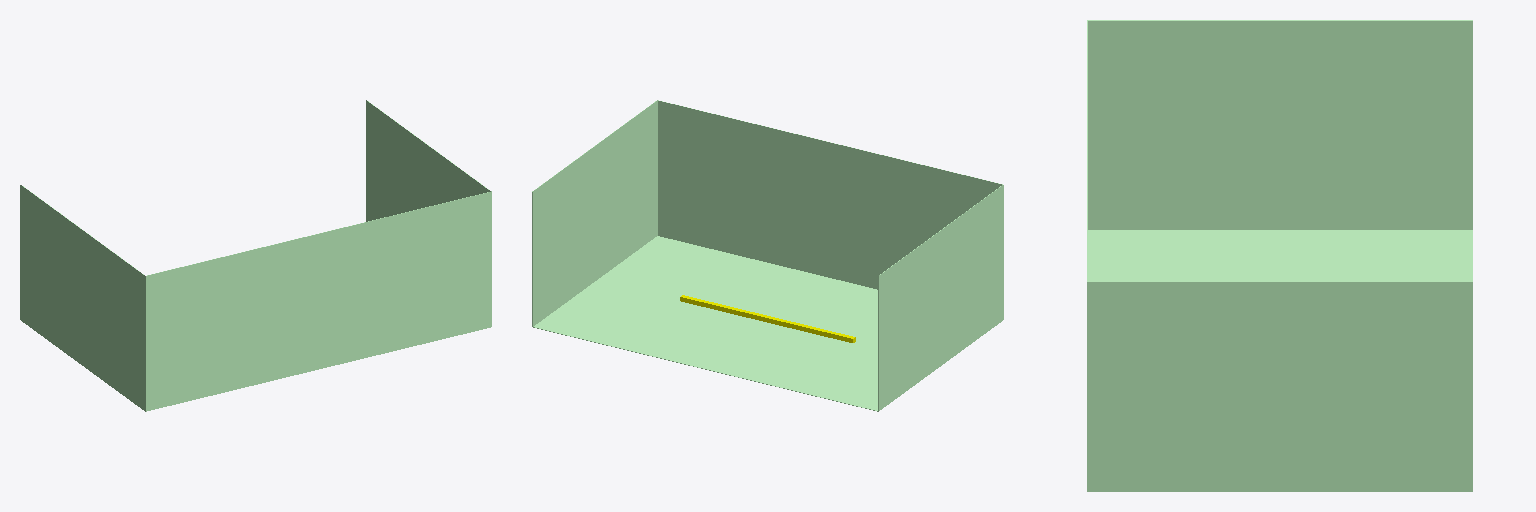
URDF robot description (irb2400_workspace):
<?xml version="1.0" ?>
<!-- =================================================================================== -->
<!-- |    This document was autogenerated by xacro from irb2400_with_linear_track_workspace.xacro | -->
<!-- |    EDITING THIS FILE BY HAND IS NOT RECOMMENDED                                 | -->
<!-- =================================================================================== -->
<robot name="irb2400_workspace" xmlns:xacro="http://ros.org/wiki/xacro">
  <!-- Conversion were obtained from http://www.e-paint.co.uk/Lab_values.asp
       unless otherwise stated. -->
  <link name="world_frame"/>
  <!-- link list -->
  <link name="base_link">
    <visual>
      <origin rpy="0 0 0" xyz="0 0 0"/>
      <geometry>
        <mesh filename="package://abb_irb2400_support/meshes/irb2400/visual/base_link.dae"/>
      </geometry>
      <material name="">
        <color rgba="0.7372549 0.3490196 0.1607843 1"/>
      </material>
    </visual>
    <collision>
      <geometry>
        <mesh filename="package://abb_irb2400_support/meshes/irb2400/collision/base_link.stl"/>
      </geometry>
      <material name="">
        <color rgba="1 1 0 1"/>
      </material>
    </collision>
  </link>
  <link name="link_1">
    <visual>
      <origin rpy="0 0 0" xyz="0 0 0"/>
      <geometry>
        <mesh filename="package://abb_irb2400_support/meshes/irb2400/visual/link_1.dae"/>
      </geometry>
      <material name="">
        <color rgba="0.7372549 0.3490196 0.1607843 1"/>
      </material>
    </visual>
    <collision>
      <origin rpy="0 0 0" xyz="0 0 0"/>
      <geometry>
        <mesh filename="package://abb_irb2400_support/meshes/irb2400/collision/link_1.stl"/>
      </geometry>
      <material name="">
        <color rgba="1 1 0 1"/>
      </material>
    </collision>
  </link>
  <link name="link_2">
    <visual>
      <origin rpy="0 0 0" xyz="0 0 0"/>
      <geometry>
        <mesh filename="package://abb_irb2400_support/meshes/irb2400/visual/link_2.dae"/>
      </geometry>
      <material name="">
        <color rgba="0.7372549 0.3490196 0.1607843 1"/>
      </material>
    </visual>
    <collision>
      <origin rpy="0 0 0" xyz="0 0 0"/>
      <geometry>
        <mesh filename="package://abb_irb2400_support/meshes/irb2400/collision/link_2_whole.stl"/>
      </geometry>
      <material name="">
        <color rgba="1 1 0 1"/>
      </material>
    </collision>
  </link>
  <link name="link_3">
    <visual>
      <origin rpy="0 0 0" xyz="0 0 0"/>
      <geometry>
        <mesh filename="package://abb_irb2400_support/meshes/irb2400/visual/link_3.dae"/>
      </geometry>
      <material name="">
        <color rgba="0.7372549 0.3490196 0.1607843 1"/>
      </material>
    </visual>
    <collision>
      <origin rpy="0 0 0" xyz="0 0 0"/>
      <geometry>
        <mesh filename="package://abb_irb2400_support/meshes/irb2400/collision/link_3.stl"/>
      </geometry>
      <material name="">
        <color rgba="1 1 0 1"/>
      </material>
    </collision>
  </link>
  <link name="link_4">
    <visual>
      <origin rpy="0 0 0" xyz="0 0 0"/>
      <geometry>
        <mesh filename="package://abb_irb2400_support/meshes/irb2400/visual/link_4.dae"/>
      </geometry>
      <material name="">
        <color rgba="0.7372549 0.3490196 0.1607843 1"/>
      </material>
    </visual>
    <collision>
      <origin rpy="0 0 0" xyz="0 0 0"/>
      <geometry>
        <mesh filename="package://abb_irb2400_support/meshes/irb2400/collision/link_4.stl"/>
      </geometry>
      <material name="">
        <color rgba="1 1 0 1"/>
      </material>
    </collision>
  </link>
  <link name="link_5">
    <visual>
      <origin rpy="0 0 0" xyz="0 0 0"/>
      <geometry>
        <mesh filename="package://abb_irb2400_support/meshes/irb2400/visual/link_5.dae"/>
      </geometry>
      <material name="">
        <color rgba="0.7372549 0.3490196 0.1607843 1"/>
      </material>
    </visual>
    <collision>
      <origin rpy="0 0 0" xyz="0 0 0"/>
      <geometry>
        <mesh filename="package://abb_irb2400_support/meshes/irb2400/collision/link_5.stl"/>
      </geometry>
      <material name="">
        <color rgba="1 1 0 1"/>
      </material>
    </collision>
  </link>
  <link name="link_6">
    <visual>
      <origin rpy="0 0 0" xyz="0 0 0"/>
      <geometry>
        <mesh filename="package://abb_irb2400_support/meshes/irb2400/visual/link_6.dae"/>
      </geometry>
      <material name="">
        <color rgba="0.1882353 0.1960784 0.2039216 1"/>
      </material>
    </visual>
    <collision>
      <origin rpy="0 0 0" xyz="0 0 0"/>
      <geometry>
        <mesh filename="package://abb_irb2400_support/meshes/irb2400/collision/link_6.stl"/>
      </geometry>
      <material name="">
        <color rgba="1 1 0 1"/>
      </material>
    </collision>
  </link>
  <link name="tool0"/>
  <!-- end of link list -->
  <!-- joint list -->
  <joint name="joint_1" type="revolute">
    <origin rpy="0 0 0" xyz="0 0 0"/>
    <parent link="base_link"/>
    <child link="link_1"/>
    <axis xyz="0 0 1"/>
    <limit effort="0" lower="-3.1416" upper="3.1416" velocity="2.618"/>
  </joint>
  <joint name="joint_2" type="revolute">
    <origin rpy="0 0 0" xyz="0.1 0 0.615"/>
    <parent link="link_1"/>
    <child link="link_2"/>
    <axis xyz="0 1 0"/>
    <limit effort="0" lower="-1.7453" upper="1.9199" velocity="2.618"/>
  </joint>
  <joint name="joint_3" type="revolute">
    <origin rpy="0 0 0" xyz="0 0 0.705"/>
    <parent link="link_2"/>
    <child link="link_3"/>
    <axis xyz="0 1 0"/>
    <limit effort="0" lower="-1.0472" upper="1.1345" velocity="2.618"/>
  </joint>
  <joint name="joint_4" type="revolute">
    <origin rpy="0 0 0" xyz="0.258 0 0.135"/>
    <parent link="link_3"/>
    <child link="link_4"/>
    <axis xyz="1 0 0"/>
    <limit effort="0" lower="-3.49" upper="3.49" velocity="6.2832"/>
  </joint>
  <joint name="joint_5" type="revolute">
    <origin rpy="0 0 0" xyz="0.497 0 0"/>
    <parent link="link_4"/>
    <child link="link_5"/>
    <axis xyz="0 1 0"/>
    <limit effort="0" lower="-2.0944" upper="2.0944" velocity="6.2832"/>
  </joint>
  <joint name="joint_6" type="revolute">
    <origin rpy="0 0 0" xyz="0.085 0 0"/>
    <parent link="link_5"/>
    <child link="link_6"/>
    <axis xyz="1 0 0"/>
    <limit effort="0" lower="-6.9813" upper="6.9813" velocity="7.854"/>
  </joint>
  <joint name="joint_6-tool0" type="fixed">
    <parent link="link_6"/>
    <child link="tool0"/>
    <origin rpy="0 1.57079632679 0" xyz="0 0 0"/>
  </joint>
  <!-- end of joint list -->
  <!-- ROS base_link to ABB World Coordinates transform -->
  <link name="base"/>
  <joint name="base_link-base" type="fixed">
    <origin rpy="0 0 0" xyz="0 0 0"/>
    <parent link="base_link"/>
    <child link="base"/>
  </joint>
  <!-- eef_frame is Base Link -->
  <link name="eef_frame"/>
  <link name="hotend_tool">
    <visual>
      <geometry>
        <mesh filename="package://asw_end_effector/meshes/visual/asw_hotend_end_effector.stl" scale=".001 .001 .001"/>
      </geometry>
      <material name="grey">
        <color rgba="0.5 0.5 0.5 1.0"/>
      </material>
    </visual>
    <collision>
      <geometry>
        <mesh filename="package://asw_end_effector/meshes/collision/asw_hotend_end_effector_shrinked_tip-4mm.stl" scale=".001 .001 .001"/>
      </geometry>
      <material name="red">
        <color rgba="1 0 0 1"/>
      </material>
    </collision>
  </link>
  <joint name="eef_frame_to_hotend_tool" type="fixed">
    <parent link="eef_frame"/>
    <child link="hotend_tool"/>
    <origin rpy="0 0 0" xyz="0.000088 0.000769 -0.002121"/>
  </joint>
  <link name="tmp_tcp_frame"/>
  <!--The actual 'useful' work frame-->
  <link name="tcp_frame"/>
  <!--The actual 'useful' work frame-->
  <joint name="eef_to_hotend_tcp_frame" type="fixed">
    <parent link="eef_frame"/>
    <child link="tmp_tcp_frame"/>
    <origin rpy="0 1.57079632679 0" xyz="0.150539 0.001052 0.119157"/>
  </joint>
  <joint name="tmp_to_tcp_frame" type="fixed">
    <parent link="tmp_tcp_frame"/>
    <child link="tcp_frame"/>
    <origin xyz="0 0 0.0"/>
  </joint>
  <link name="demo_cell_base_link"/>
  <material name="workcell_material">
    <color rgba="0.8 1.0 0.8 0.2"/>
  </material>
  <link name="workcell_bounds">
    <!-- visual geometries -->
    <!--<visual> -->
    <!-- top -->
    <!-- <origin xyz="0 0 ${workcell_height}"/>
      <geometry>
        <box size="${workcell_length} ${workcell_width} ${workcell_thickness}"/>
      </geometry>
      <material name="workcell_material"/>
    </visual> -->
    <visual>
      <!-- right ( +x ) -->
      <origin xyz="4.0 0 1.5"/>
      <geometry>
        <box size="0.01 5.0 3.0"/>
      </geometry>
      <material name="workcell_material"/>
    </visual>
    <visual>
      <!-- bottom -->
      <material name="workcell_material"/>
      <origin xyz="0 0 0"/>
      <geometry>
        <box size="8.0 5.0 0.01"/>
      </geometry>
    </visual>
    <visual>
      <!-- left ( -x ) -->
      <origin xyz="-4.0 0 1.5"/>
      <geometry>
        <box size="0.01 5.0 3.0"/>
      </geometry>
      <material name="workcell_material"/>
    </visual>
    <!--<visual>-->
    <!-- front ( +y ) -->
    <!--<origin xyz="0 ${0.5*workcell_width} ${0.5*workcell_height}"/>
      <geometry>
        <box size="${workcell_length} ${workcell_thickness} ${workcell_height}"/>
      </geometry>
      <material name="workcell_material"/>
    </visual>-->
    <visual>
      <!-- rear ( -y ) -->
      <origin xyz="0 -2.5 1.5"/>
      <geometry>
        <box size="8.0 0.01 3.0"/>
      </geometry>
      <material name="workcell_material"/>
    </visual>
    <!-- collision geometries -->
    <collision>
      <!-- top -->
      <origin xyz="0 0 3.0"/>
      <geometry>
        <box size="8.0 5.0 0.01"/>
      </geometry>
      <material name="workcell_material"/>
    </collision>
    <collision>
      <!-- right ( +x ) -->
      <origin xyz="4.0 0 1.5"/>
      <geometry>
        <box size="0.01 5.0 3.0"/>
      </geometry>
      <material name="workcell_material"/>
    </collision>
    <collision>
      <!-- bottom -->
      <material name="workcell_material"/>
      <origin xyz="0 0 0"/>
      <geometry>
        <box size="8.0 5.0 0.01"/>
      </geometry>
    </collision>
    <collision>
      <!-- left ( -x ) -->
      <origin xyz="-4.0 0 1.5"/>
      <geometry>
        <box size="0.01 5.0 3.0"/>
      </geometry>
      <material name="workcell_material"/>
    </collision>
    <collision>
      <!-- front ( +y ) -->
      <origin xyz="0 2.5 1.5"/>
      <geometry>
        <box size="8.0 0.01 3.0"/>
      </geometry>
      <material name="workcell_material"/>
    </collision>
    <collision>
      <!-- rear ( -y ) -->
      <origin xyz="0 -2.5 1.5"/>
      <geometry>
        <box size="8.0 0.01 3.0"/>
      </geometry>
      <material name="workcell_material"/>
    </collision>
  </link>
  <link name="rail">
    <visual>
      <origin xyz="0 0 0"/>
      <geometry>
        <box size="4 0.1 0.1"/>
      </geometry>
      <material name="yellow">
        <color rgba="1.0 1.0 0 1.0"/>
      </material>
    </visual>
    <collision>
      <origin xyz="0 0 0"/>
      <geometry>
        <box size="4 0.1 0.1"/>
      </geometry>
      <material name="yellow">
        <color rgba="1.0 1.0 0 1.0"/>
      </material>
    </collision>
  </link>
  <joint name="cell_base_to_bounds" type="fixed">
    <parent link="demo_cell_base_link"/>
    <child link="workcell_bounds"/>
    <origin xyz="0 0 -0.1"/>
  </joint>
  <joint name="cell_base_to_rail" type="fixed">
    <parent link="demo_cell_base_link"/>
    <child link="rail"/>
    <origin xyz="0 0 0"/>
  </joint>
  <joint name="rail_to_robot_base_link" type="prismatic">
    <parent link="rail"/>
    <child link="base_link"/>
    <origin xyz="0 0 0.05"/>
    <axis xyz="1 0 0"/>
    <limit effort="1" lower="-2" upper="2" velocity="1"/>
  </joint>
  <!-- Attach the end effector to the end of the robot arm (tool0) -->
  <joint name="link_t_to_eef" type="fixed">
    <parent link="tool0"/>
    <child link="eef_frame"/>
    <origin rpy="0 0 0" xyz="0 0 0"/>
  </joint>
  <joint name="world_to_demo_cell" type="fixed">
    <parent link="world_frame"/>
    <child link="demo_cell_base_link"/>
    <origin rpy="0 0 0" xyz="0 0 0"/>
  </joint>
</robot>

--- Facts derived from the render (not from the file) ---
Views: 3 orthographic renders of the robot side by side, from view 1: azimuth 30°, elevation 25°; view 2: azimuth 150°, elevation 25°; view 3: azimuth 270°, elevation 25°.
Model irb2400_workspace with 17 links and 16 joints (6 revolute, 1 prismatic, 9 fixed), rooted at world_frame, posed every joint at zero.
Visible links, largest first — view 1: workcell_bounds; view 2: workcell_bounds, rail; view 3: workcell_bounds.
Boxes of the visible links, x1,y1,x2,y2 form: workcell_bounds: (20,100,491,411); workcell_bounds: (532,100,1003,411); rail: (680,295,855,342); workcell_bounds: (1087,20,1472,491).
Bounding box of the posed robot: 8.01 × 5 × 3 m (x, y, z).
0 mesh visuals loaded from 8 distinct referenced files (none loaded); not drawn: 8 (reference not matched to a file when rendering).